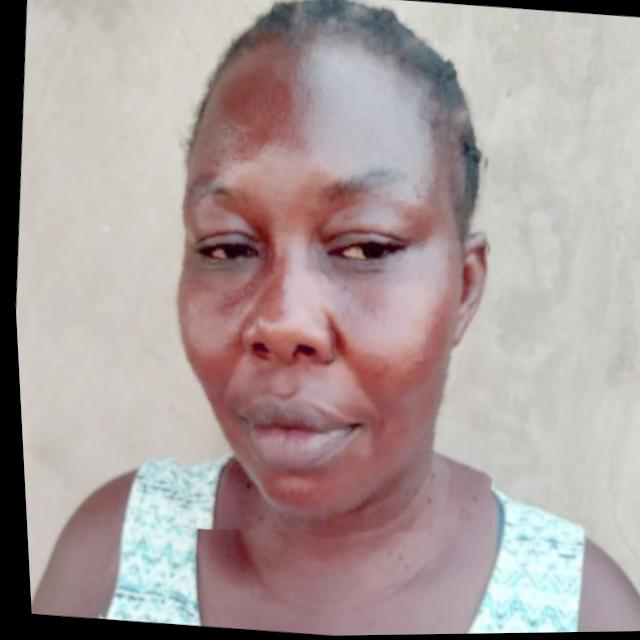sad: (128, 0, 524, 551)
